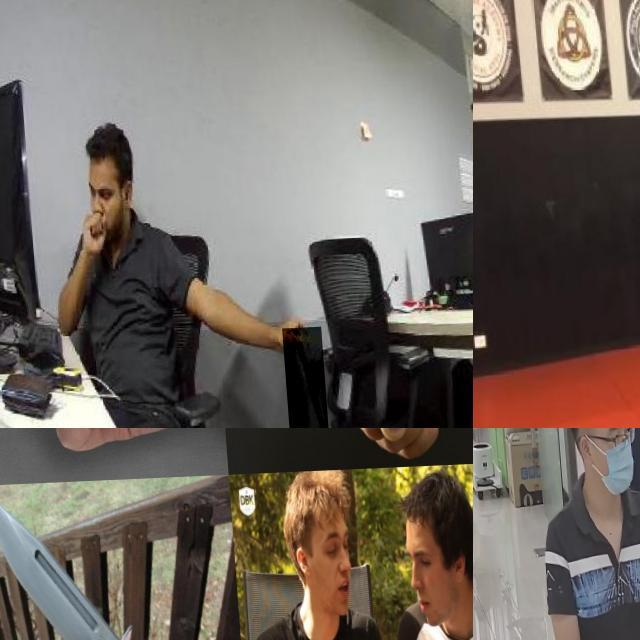-: (223, 428, 424, 567), (0, 482, 152, 640), (0, 428, 111, 536), (274, 330, 320, 428)
